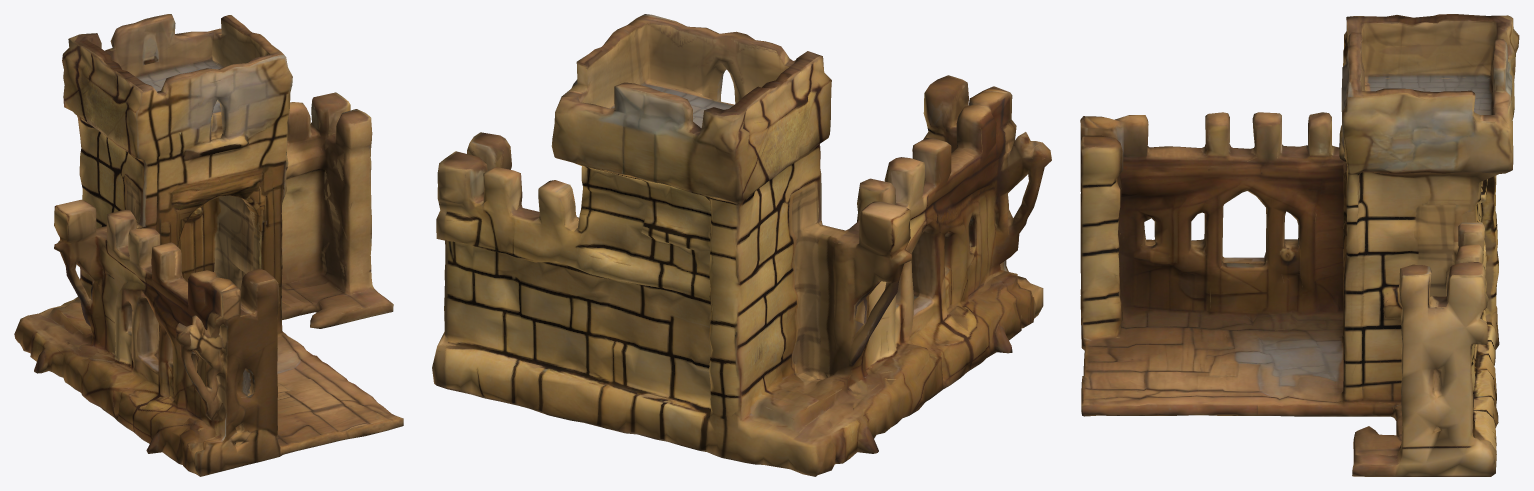
3 views of the same model, side by side, from view 1: azimuth 30°, elevation 25°; view 2: azimuth 150°, elevation 25°; view 3: azimuth 270°, elevation 25° (orthographic). The views are drawn at different scales.
Bounding box in the file's own units: 2 × 1.64 × 2.01.
1 material, 1 textured.
